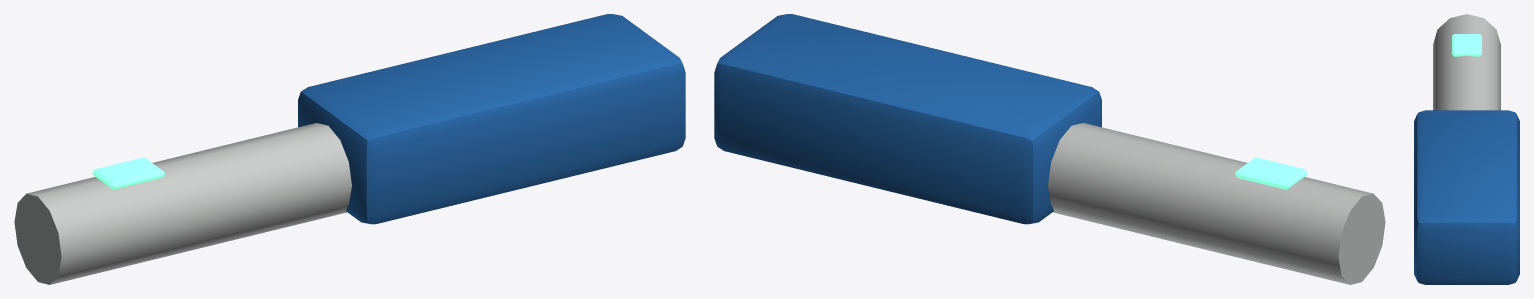
File: sc-rf-wand.glb
3 views of the same model, side by side, from view 1: azimuth 30°, elevation 25°; view 2: azimuth 150°, elevation 25°; view 3: azimuth 270°, elevation 25° (orthographic). The views are drawn at different scales.
Parts seen in each view (by area): view 1: sc-rf-wand; view 2: sc-rf-wand; view 3: sc-rf-wand.
Part boxes in pixels (x1,y1,x2,y2): sc-rf-wand: [14, 14, 685, 284]; sc-rf-wand: [714, 14, 1385, 284]; sc-rf-wand: [1414, 14, 1519, 284].
Bounding box in the file's own units: 0.34 × 0.0525 × 0.07.
